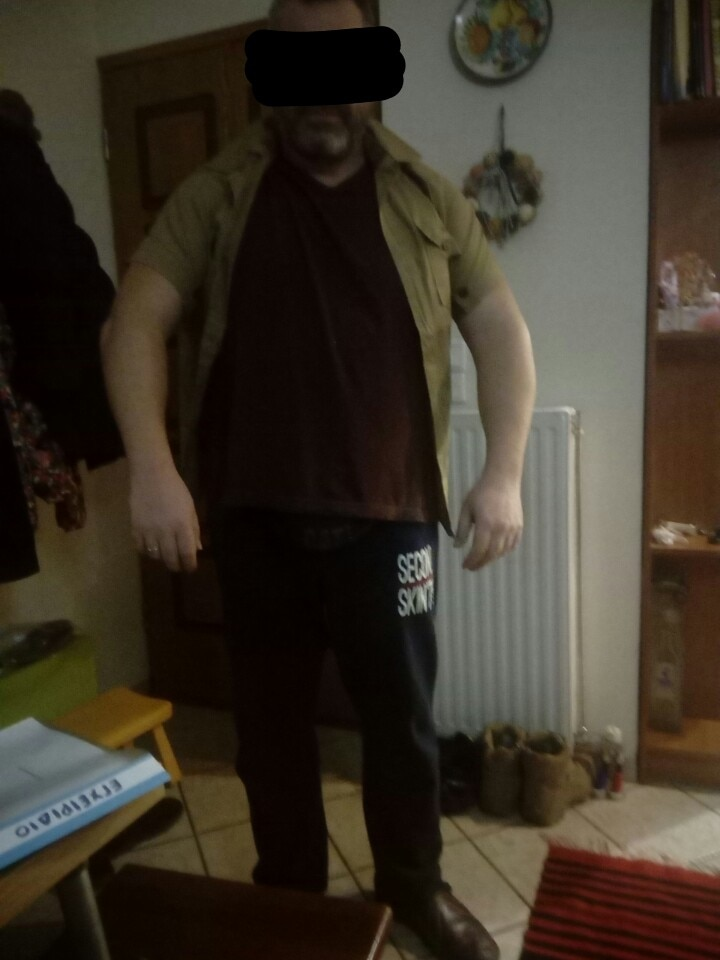shirts: (144, 139, 517, 522)
